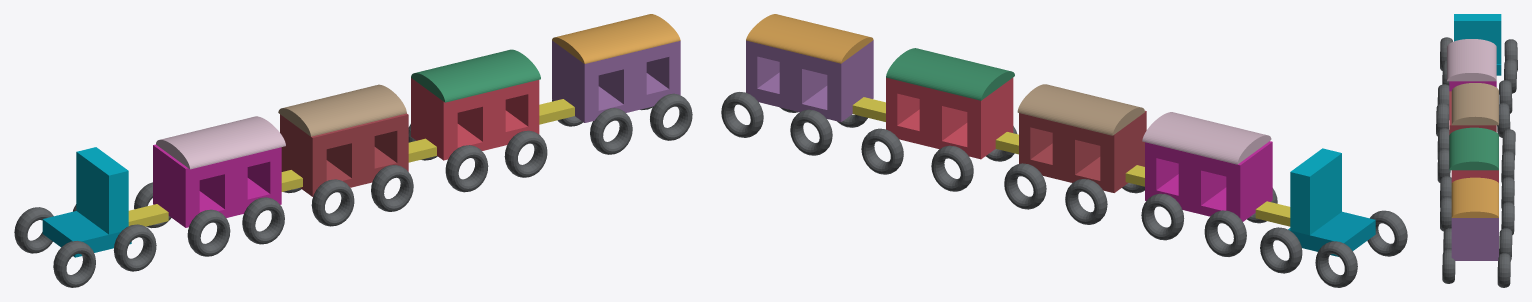
File: train.glb
3 views of the same model, side by side, from view 1: azimuth 30°, elevation 25°; view 2: azimuth 150°, elevation 25°; view 3: azimuth 270°, elevation 25° (orthographic). The views are drawn at different scales.
Visible parts, largest first — view 1: Mesh_Mesh_head_geo.001_lambert2SG.001; view 2: Mesh_Mesh_head_geo.001_lambert2SG.001; view 3: Mesh_Mesh_head_geo.001_lambert2SG.001.
Boxes of the visible parts, x1,y1,x2,y2 form: Mesh_Mesh_head_geo.001_lambert2SG.001: (14,14,692,287); Mesh_Mesh_head_geo.001_lambert2SG.001: (721,14,1407,287); Mesh_Mesh_head_geo.001_lambert2SG.001: (1436,14,1517,287).
Bounding box in the file's own units: 230 × 35 × 34.63.
